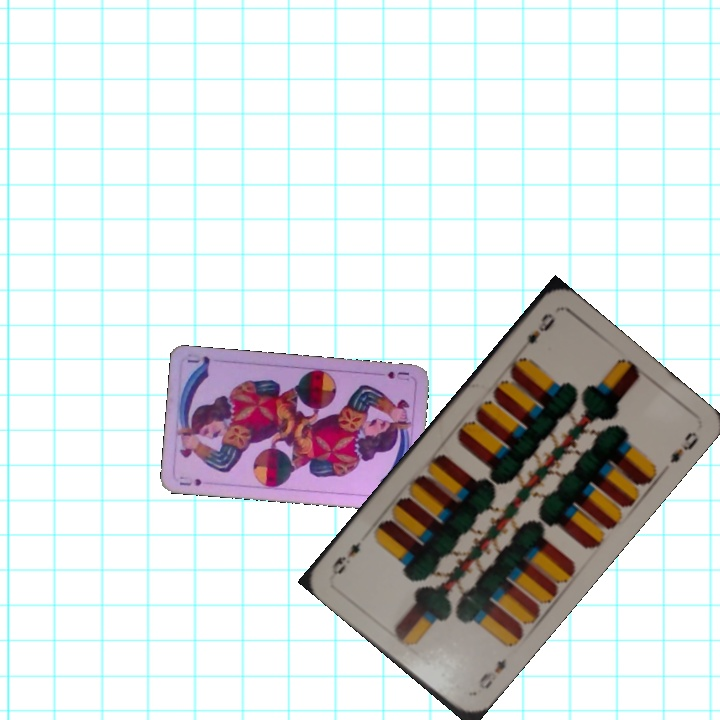E9: (523, 309, 558, 347), (474, 654, 509, 692)
SU: (175, 472, 204, 489), (383, 367, 412, 383)
